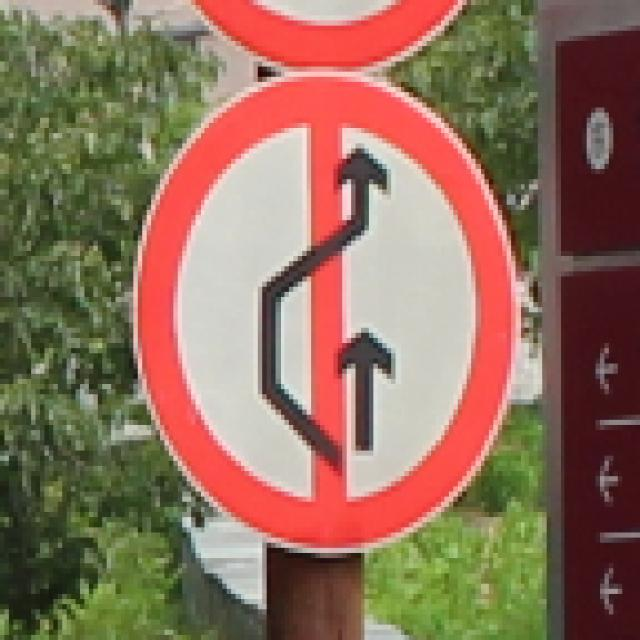Not that Direction: (112, 71, 519, 553)
